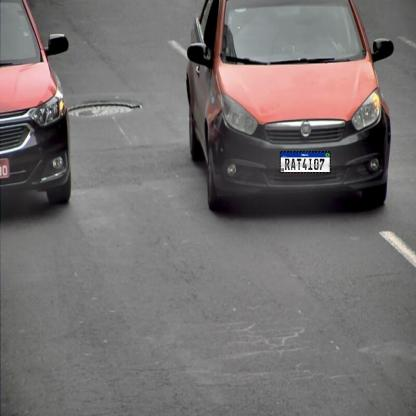PlacaM: (280, 151, 330, 173)
